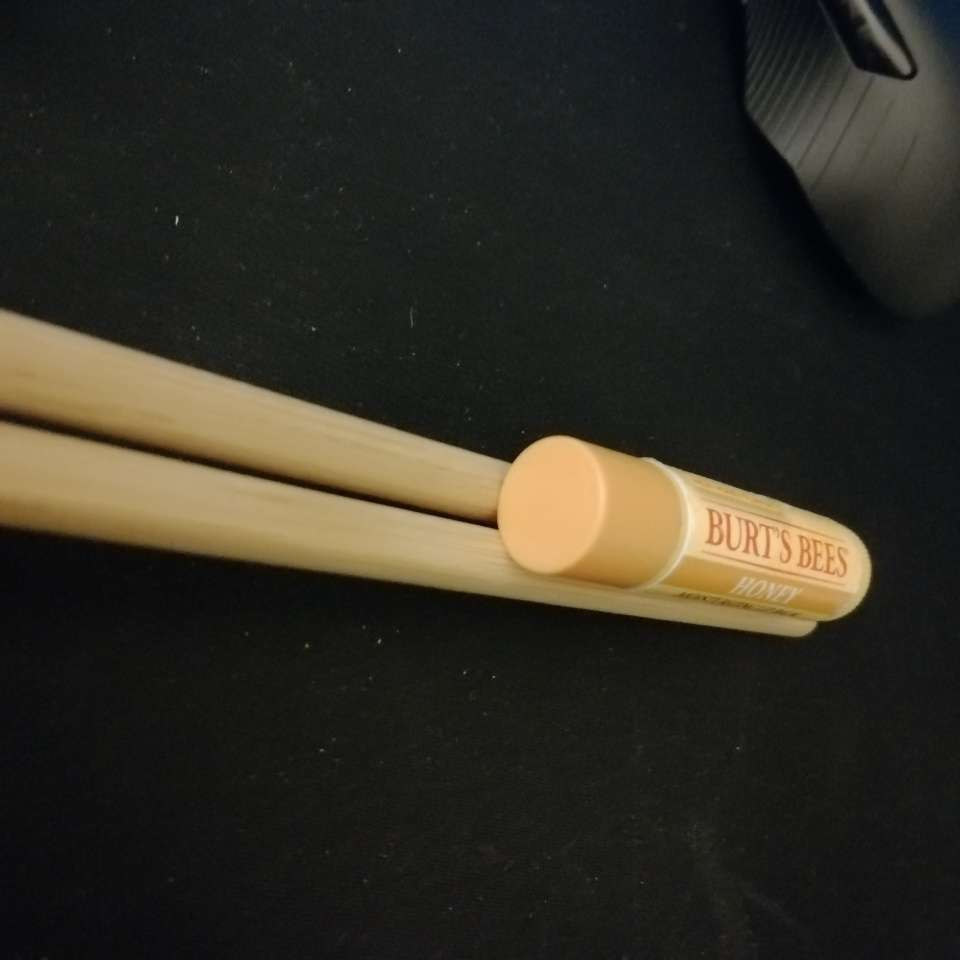chapstick: (495, 433, 875, 623)
